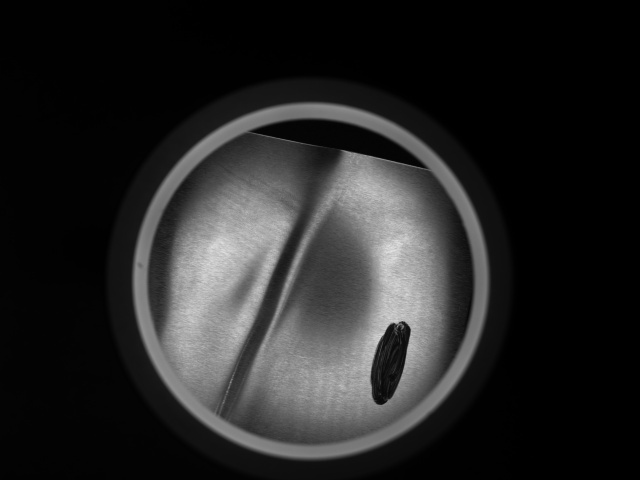zang_wu: (367, 317, 412, 409)
zhe_zhou: (189, 146, 428, 419)
